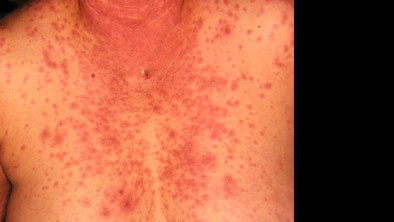SJS-TEN: (0, 0, 298, 222)
